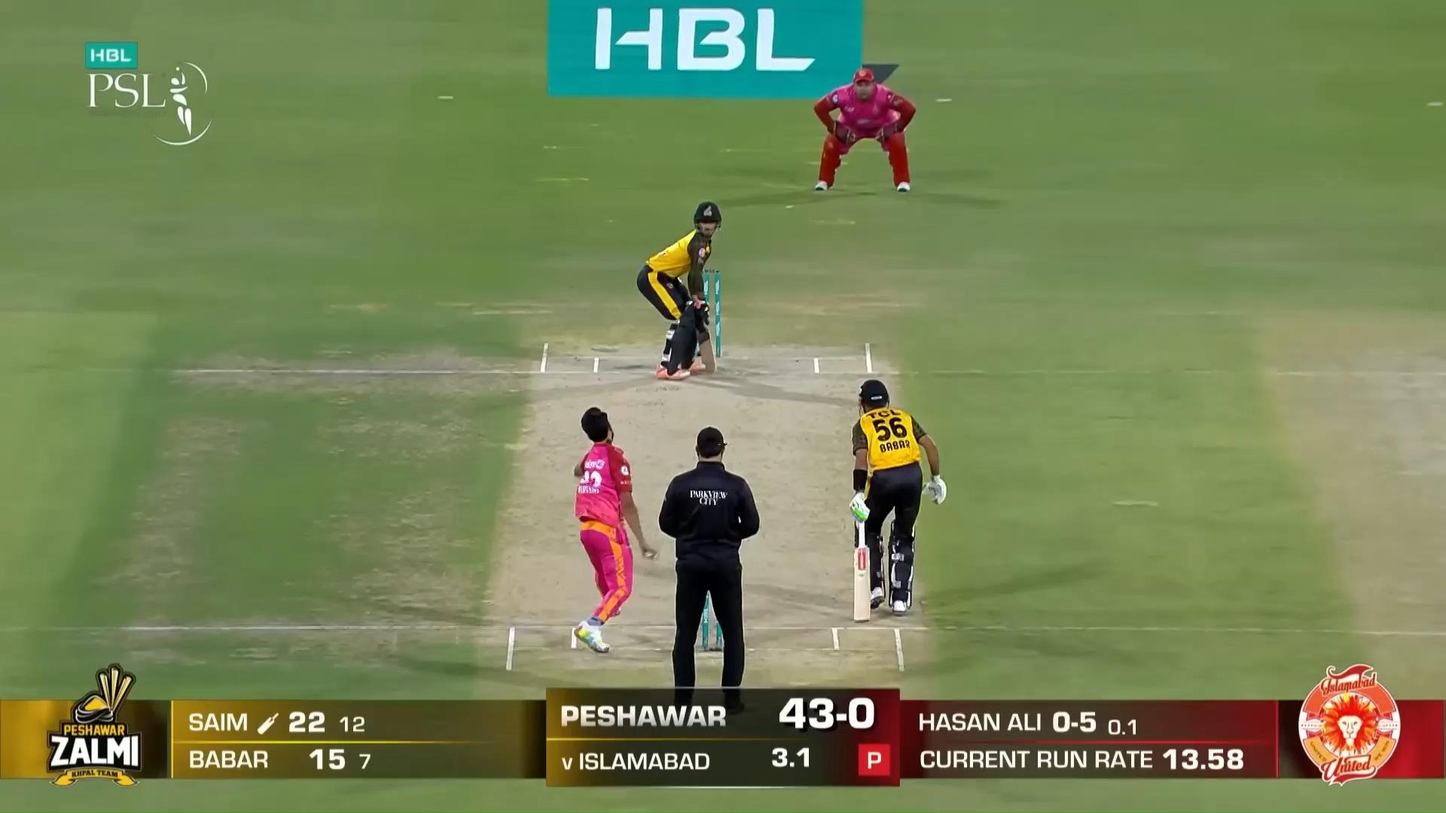batsman: (636, 200, 721, 381)
